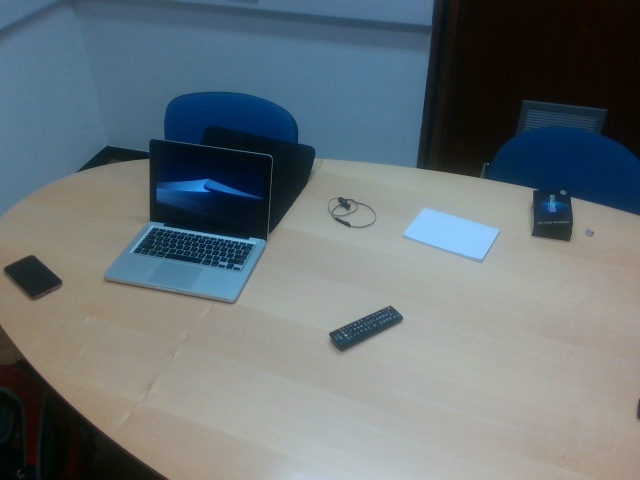remote: (329, 304, 405, 353)
